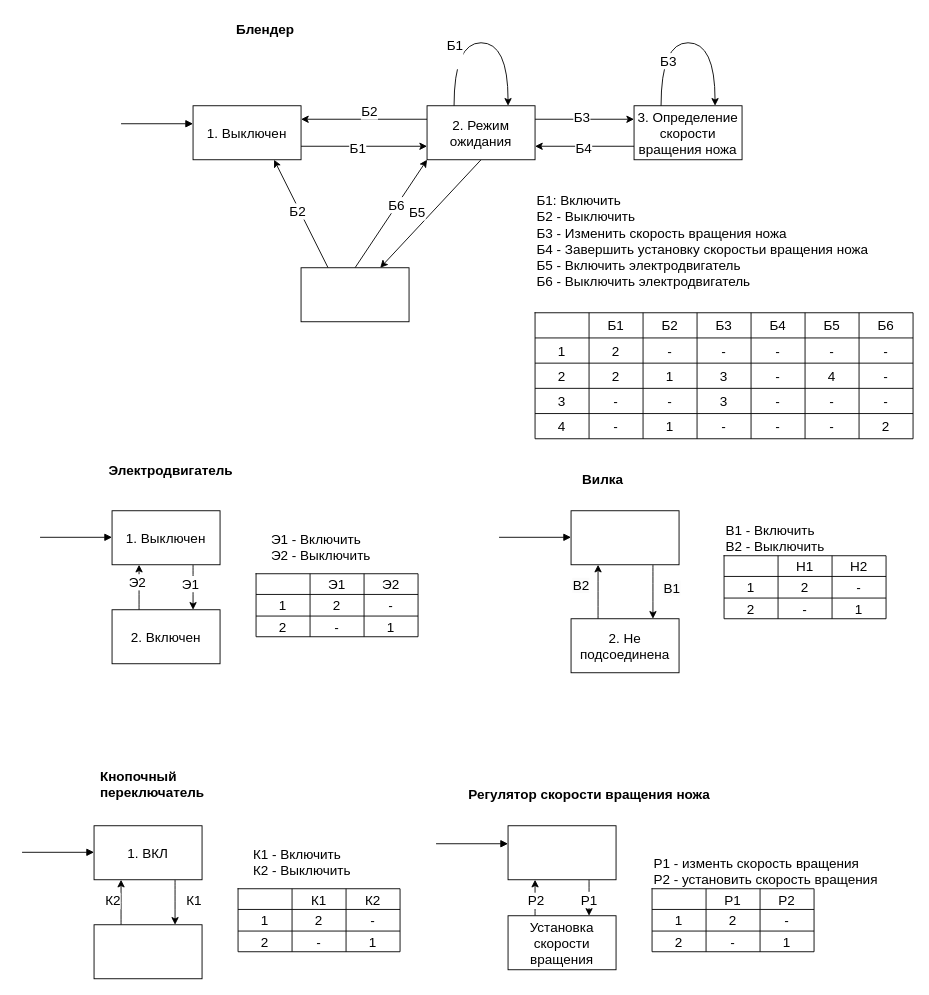
Image size: 929x995. Some labels were removed from this diagram. Each missing label, with the centre of its shape:
"1. Подсоеденина" belongs at point (624, 537).
"2. ВЫКЛ" belongs at point (147, 951).
"4. Работа электродвигателя" belongs at point (354, 294).
"Установлена скорость вращения" belongs at point (561, 852).
